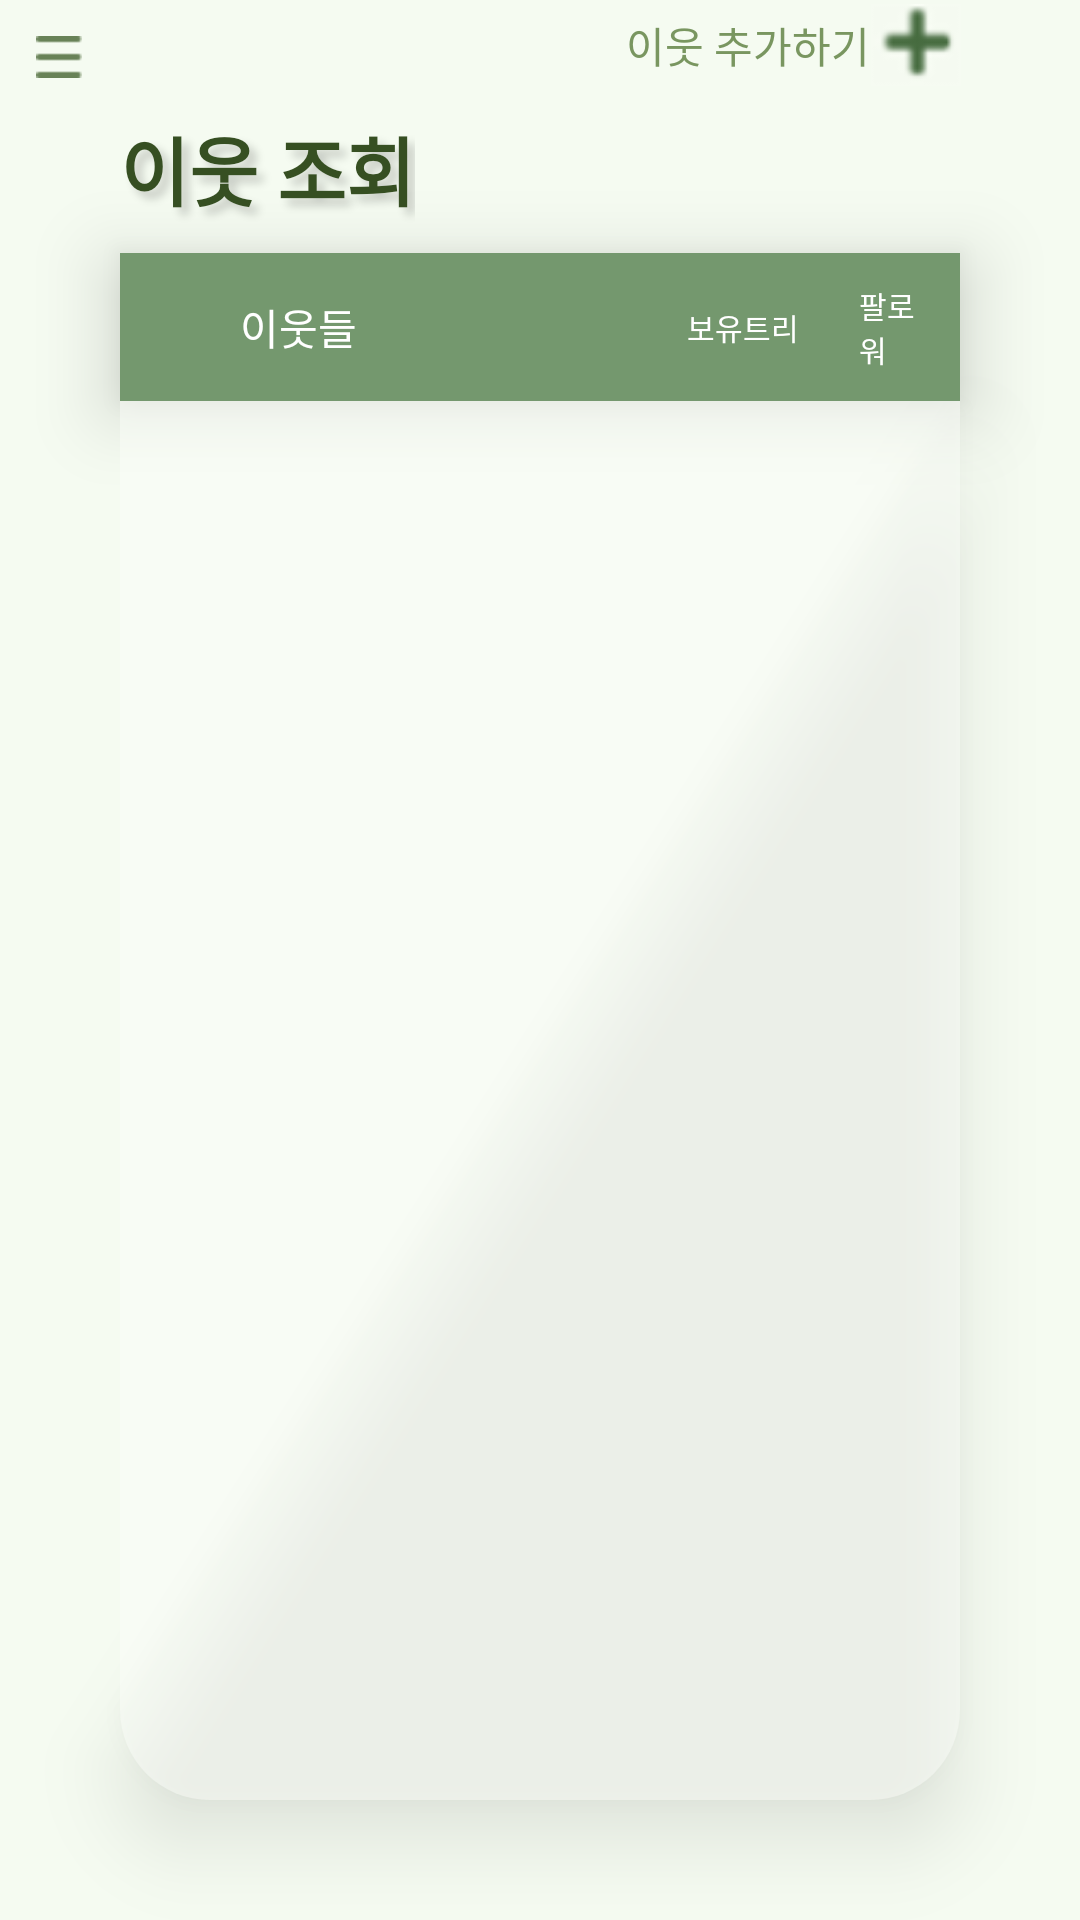

Locate icon controls on the screen. Image size 1080px x 1920px, boxes as (x1, y1, x2, y2).
list: (36, 36, 82, 78)
plus: (882, 7, 951, 76)
